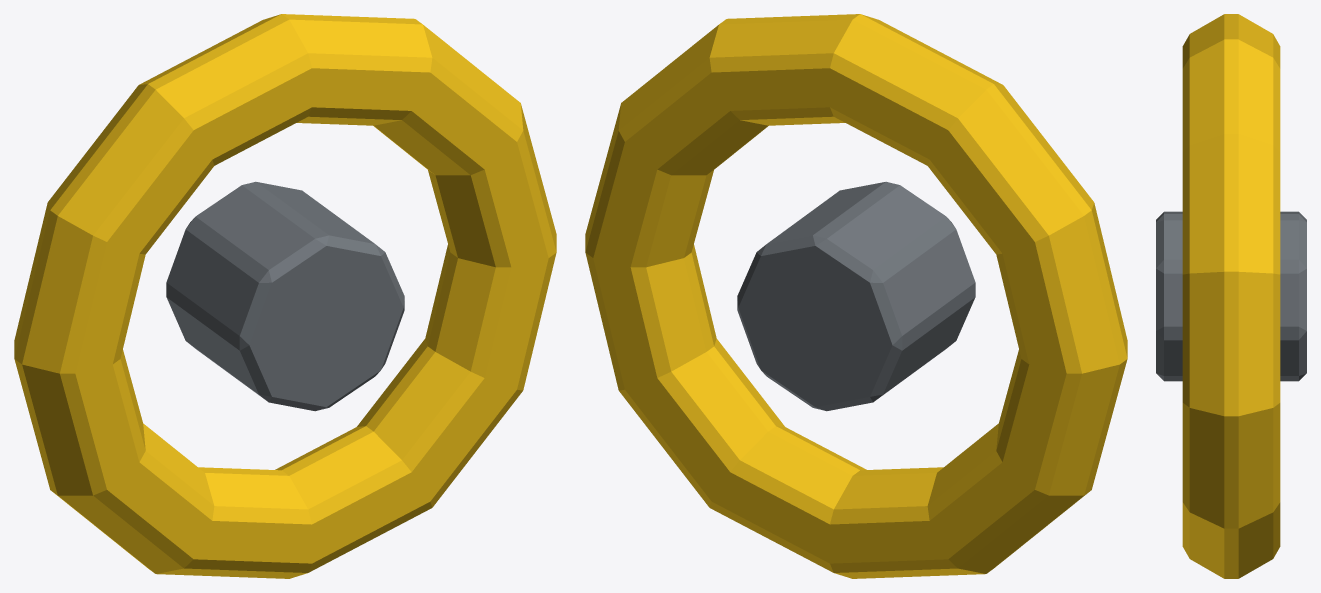
File: pulley.glb
3 renders of one model, left to right at view 1: azimuth 30°, elevation 25°; view 2: azimuth 150°, elevation 25°; view 3: azimuth 270°, elevation 25°, orthographic. The views are drawn at different scales.
Visible parts, largest first — view 1: pulley; view 2: pulley; view 3: pulley.
Part boxes in pixels (x1=…): pulley: x1=14, y1=14, x2=556, y2=578; pulley: x1=585, y1=14, x2=1127, y2=578; pulley: x1=1156, y1=14, x2=1306, y2=578.
Size of the model in its own units: 0.282 by 0.282 by 0.075.
